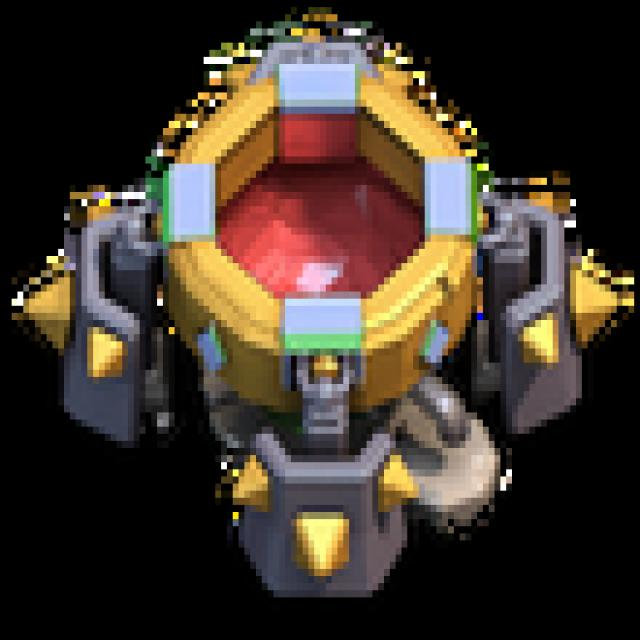dark_spell_factory: (11, 0, 640, 626)
